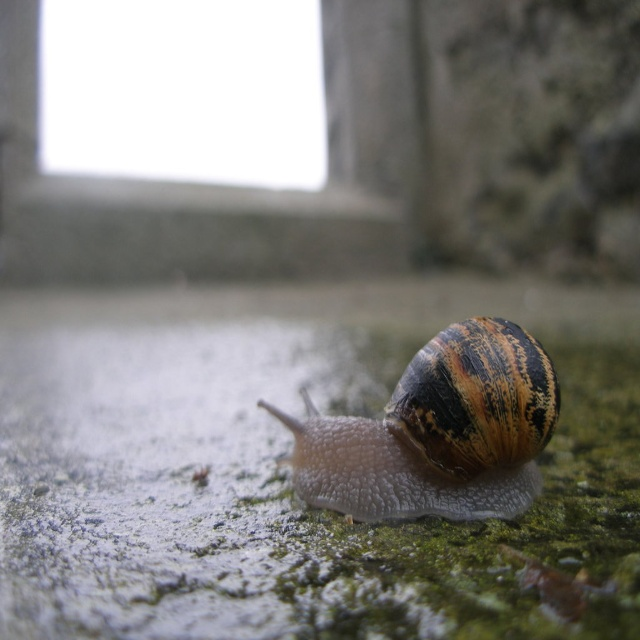Snail: (252, 315, 564, 525)
